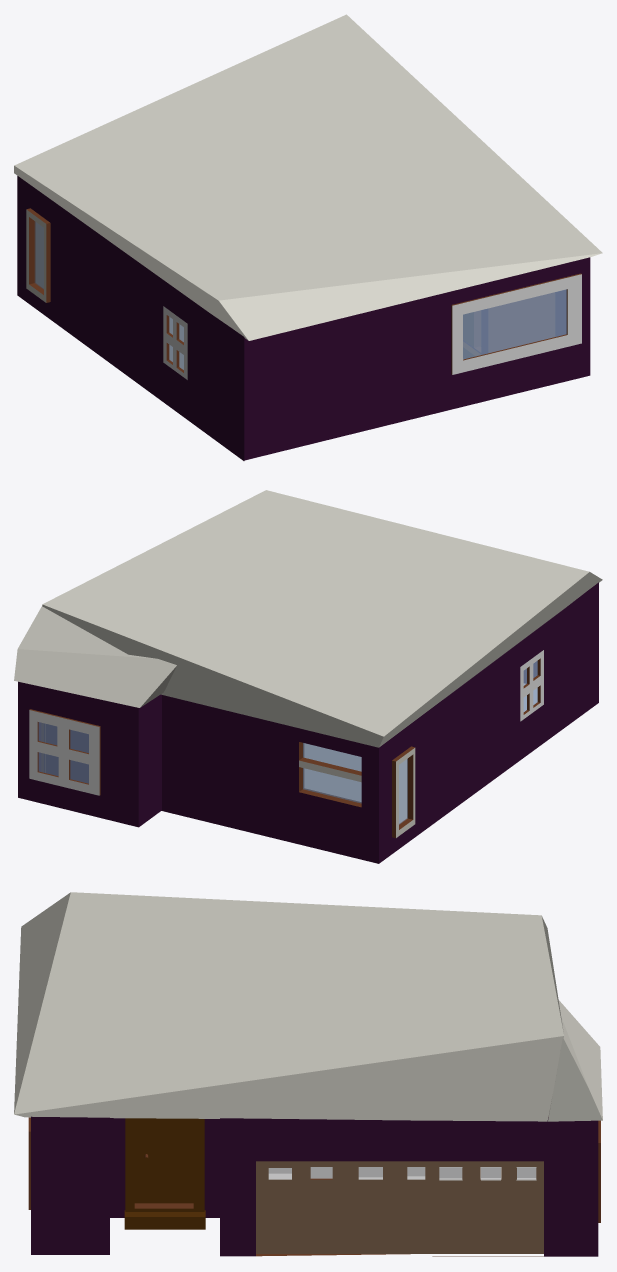
The model's file is house4.fbx.
The picture shows the model from 3 angles, top to bottom: view 1: azimuth 30°, elevation 25°; view 2: azimuth 150°, elevation 25°; view 3: azimuth 270°, elevation 25°; orthographic projection. The views are drawn at different scales.
Visible parts, largest first — view 1: house4, Cube; view 2: house4, Cube; view 3: house4.
Boxes of the visible parts, x1,y1,x2,y2 form: house4: (14,14,602,460); Cube: (34,221,43,289); house4: (14,490,602,863); Cube: (399,758,407,824); house4: (14,892,602,1256).
Size of the model in its own units: 2078 by 1073 by 2603.
